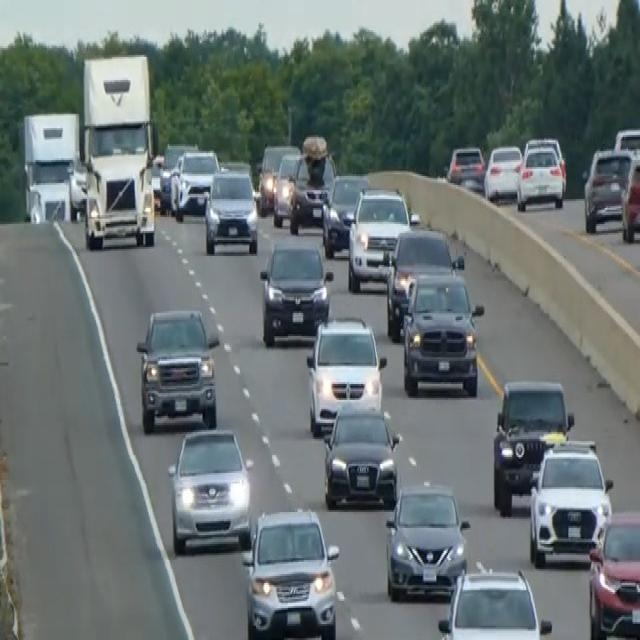car: (241, 505, 340, 638), (492, 375, 574, 514), (527, 436, 613, 567), (135, 304, 220, 432), (167, 425, 251, 553), (401, 268, 484, 396), (384, 480, 470, 601), (305, 313, 386, 435), (384, 226, 463, 340), (437, 562, 552, 638), (322, 398, 401, 508), (258, 238, 332, 345), (347, 185, 418, 291), (587, 508, 639, 638), (203, 166, 258, 254), (288, 135, 336, 233), (582, 146, 632, 233), (320, 170, 369, 258), (516, 135, 566, 212), (170, 147, 220, 220), (158, 140, 196, 212), (483, 142, 522, 203), (271, 149, 301, 226), (446, 142, 485, 190), (620, 153, 639, 242), (66, 153, 88, 219), (613, 124, 639, 160)
lorry: (79, 52, 158, 250)
